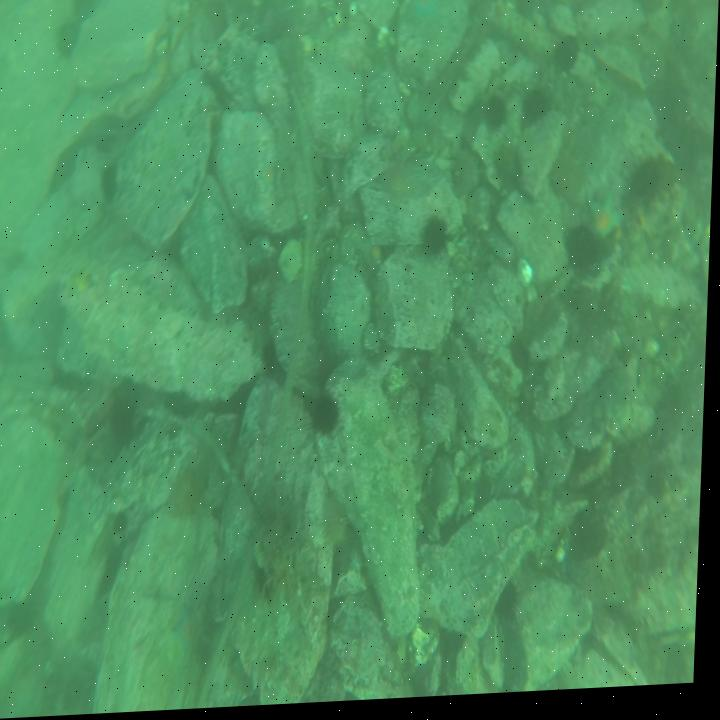echinus: (176, 469, 214, 525), (109, 396, 145, 447), (577, 512, 610, 567), (322, 500, 355, 553), (494, 142, 525, 194), (522, 86, 552, 133), (310, 396, 342, 439), (567, 227, 595, 274), (553, 38, 582, 81), (424, 216, 451, 262), (484, 96, 509, 136), (57, 22, 78, 56), (69, 0, 97, 25)
starfish: (589, 193, 624, 248), (407, 0, 442, 21)
